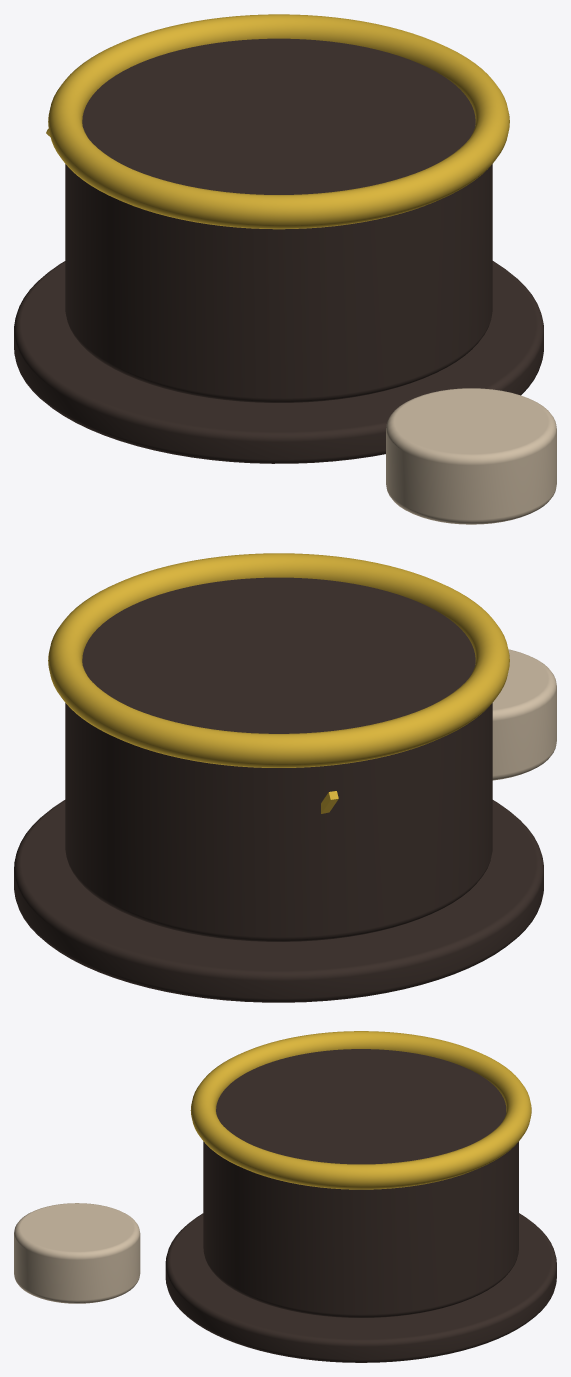
File: theme_01.glb
3 renders of one model, top to bottom at view 1: azimuth 30°, elevation 25°; view 2: azimuth 150°, elevation 25°; view 3: azimuth 270°, elevation 25°, orthographic. The views are drawn at different scales.
Visible parts, largest first — view 1: theme_01; view 2: theme_01; view 3: theme_01.
Part boxes in pixels (x1,y1,x2,y2): theme_01: (14,14,556,524); theme_01: (14,553,556,1002); theme_01: (14,1031,556,1362).
Size of the model in its own units: 1.24 by 0.64 by 1.72.
